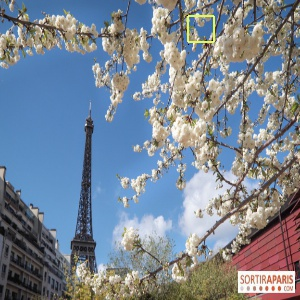square: (186, 14, 216, 44)
